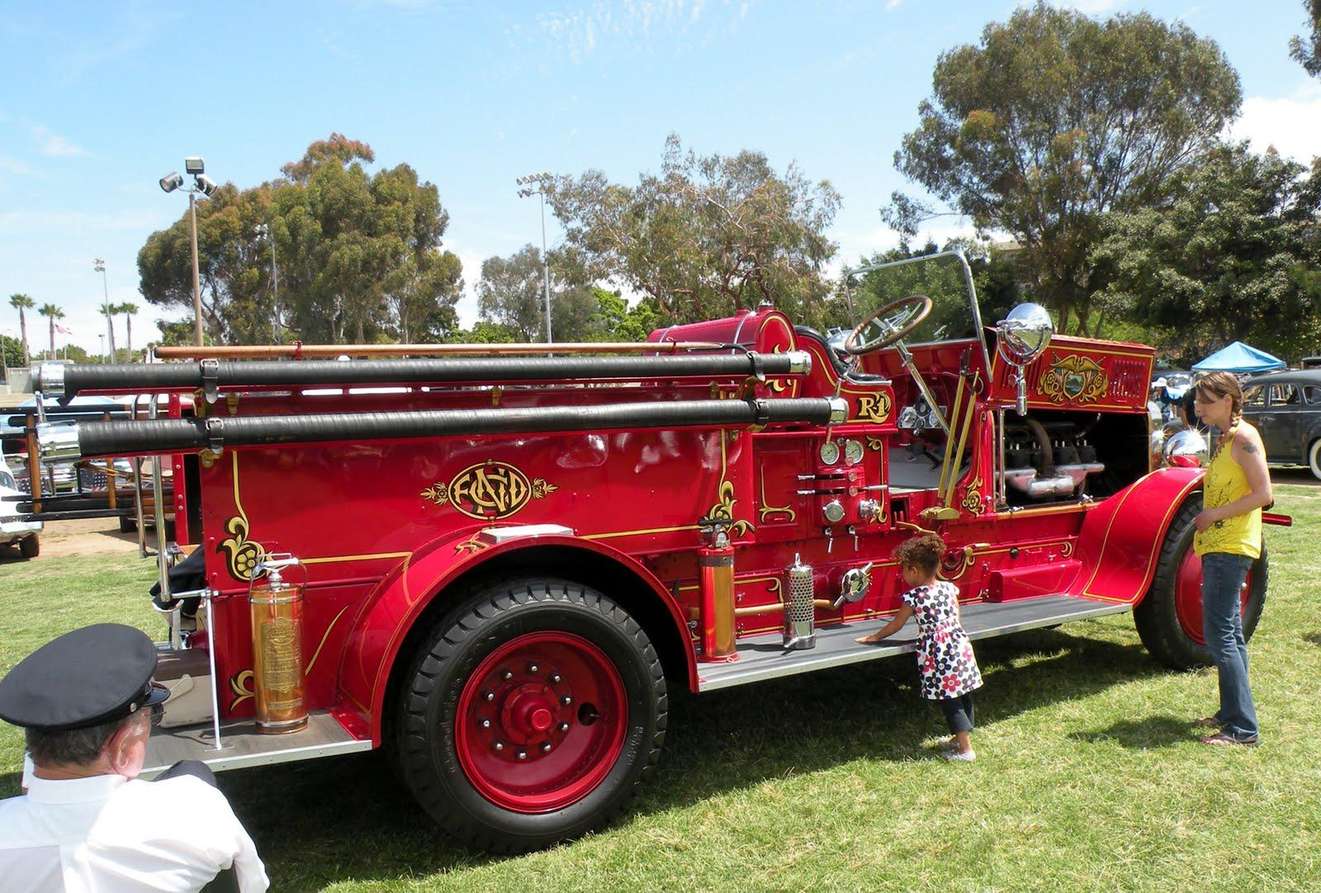Fire-engine: (10, 248, 1292, 855)
